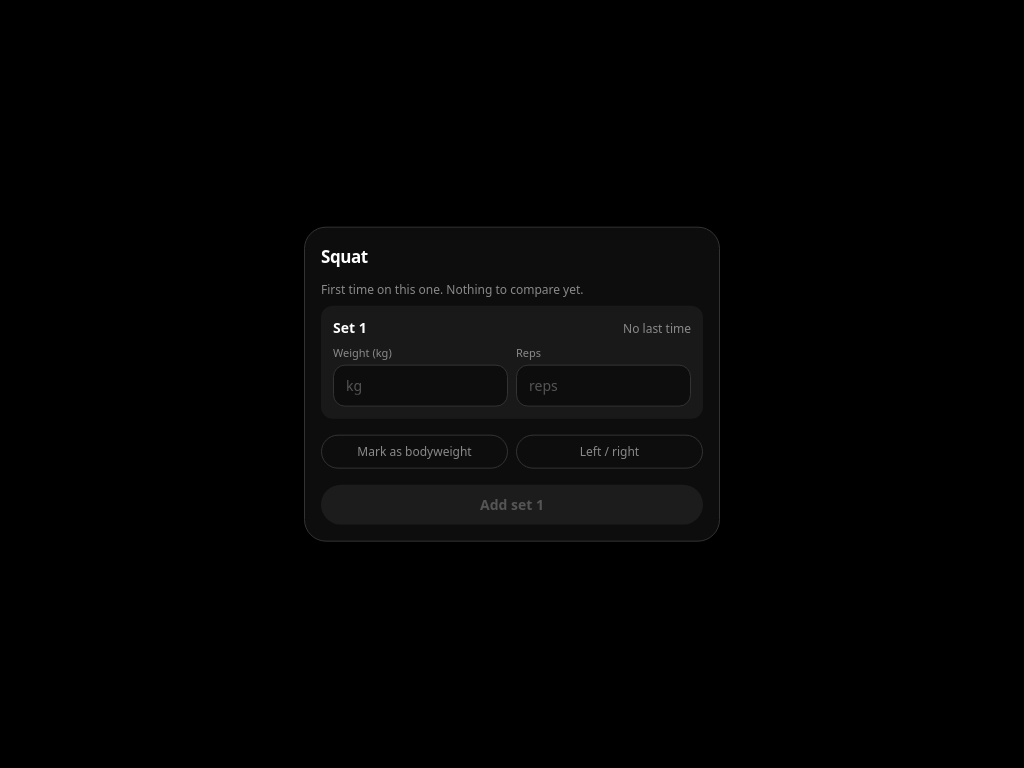
ExerciseSheet, left / right › logs both sides when Left / right is on, and needs both
The width and height of the screenshot is (1024, 768).
Click the button "Left / right". click: point(610, 451)
box: x1=516 y1=434 x2=703 y2=468
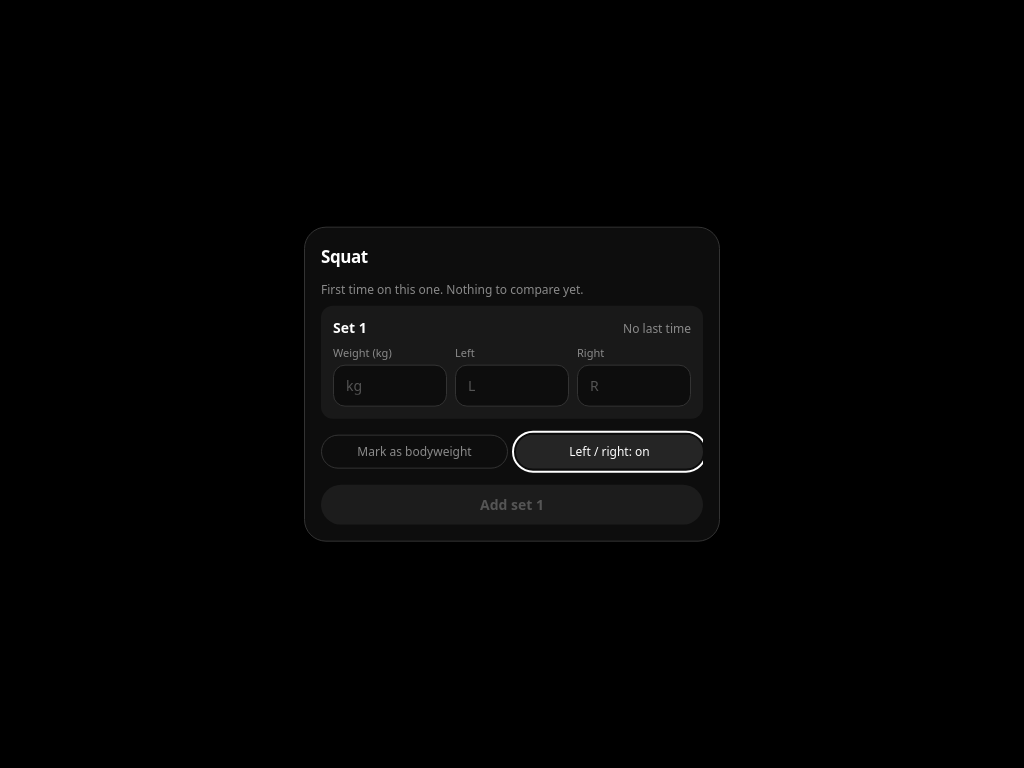
Type "20" into the number field labelled "Weight (kg)". click: point(390, 385)
box: x1=333 y1=364 x2=447 y2=406
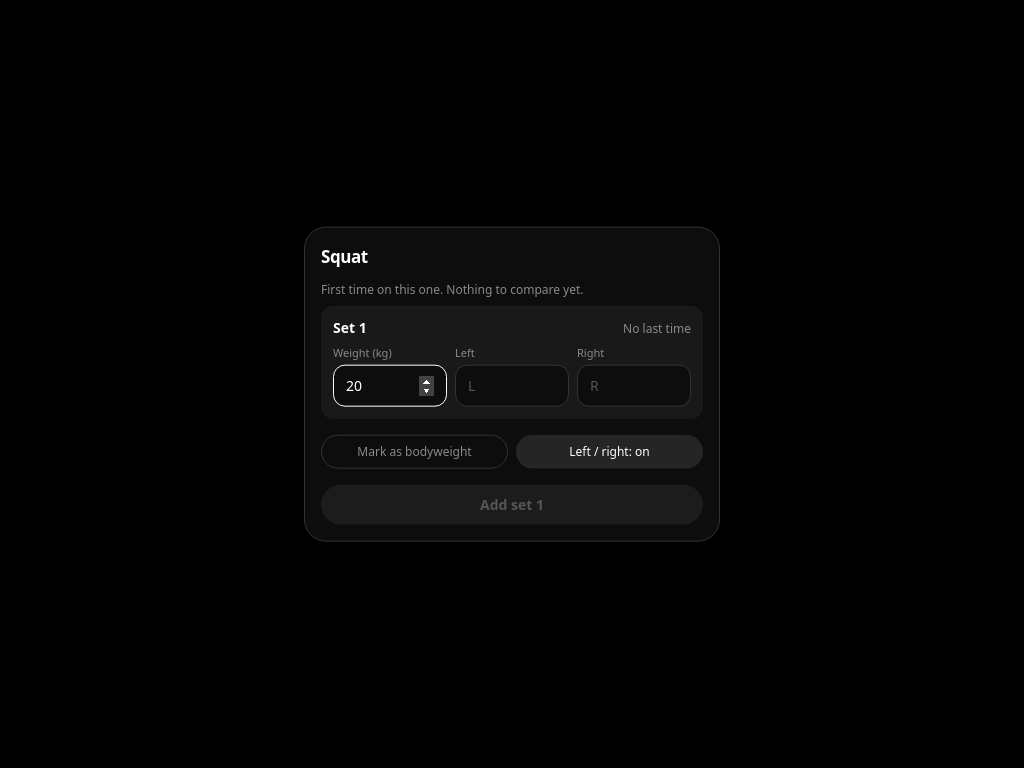
Type "7" into the number field labelled "Left". click: point(512, 385)
box: x1=455 y1=364 x2=569 y2=406
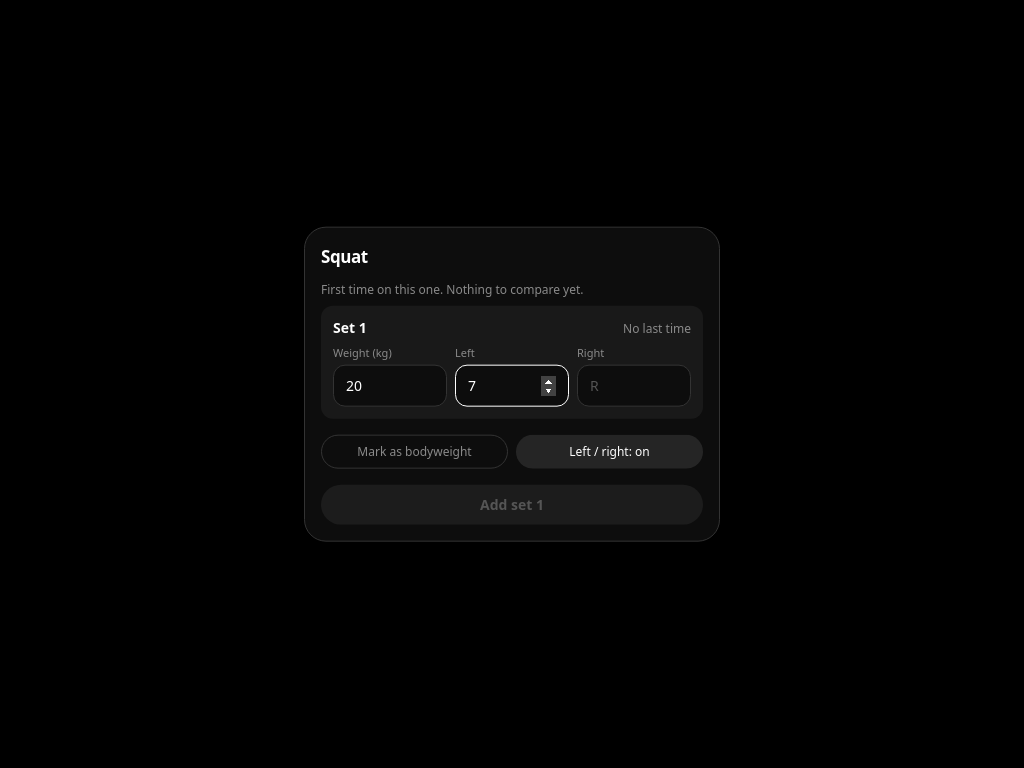
Expected: the button "Add set 1" is disabled, x1=321 y1=484 x2=703 y2=524
Type "8" into the number field labelled "Right". click: point(634, 385)
box: x1=577 y1=364 x2=691 y2=406
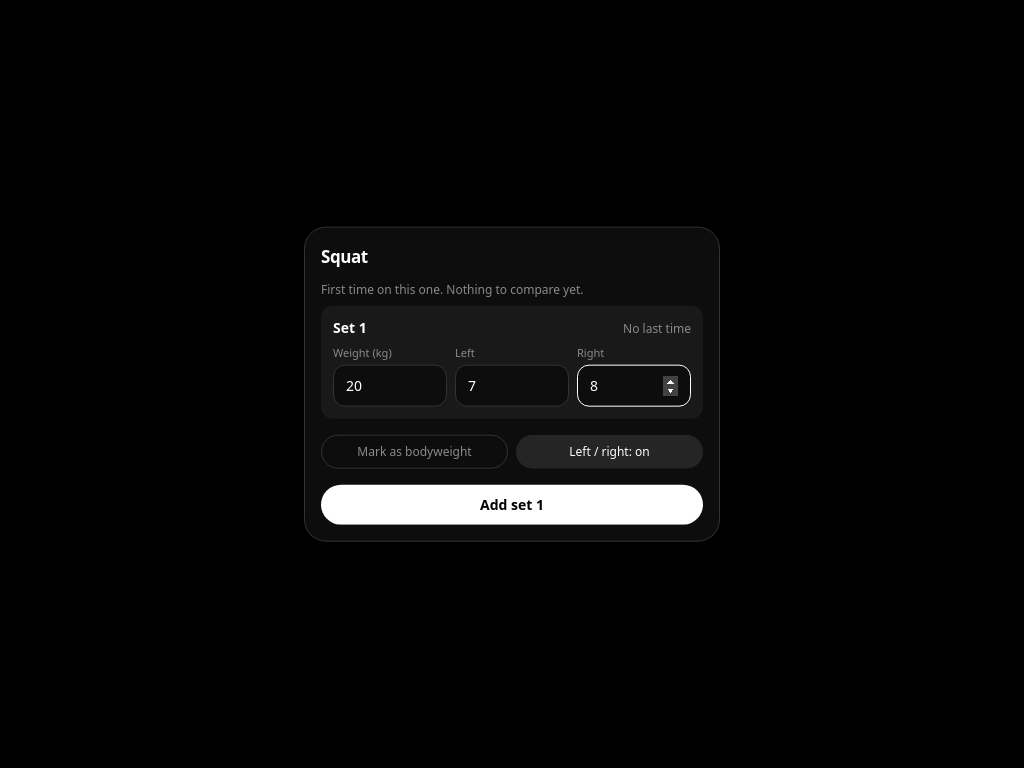
Click the button "Add set 1". click: point(512, 504)
box: x1=321 y1=484 x2=703 y2=524
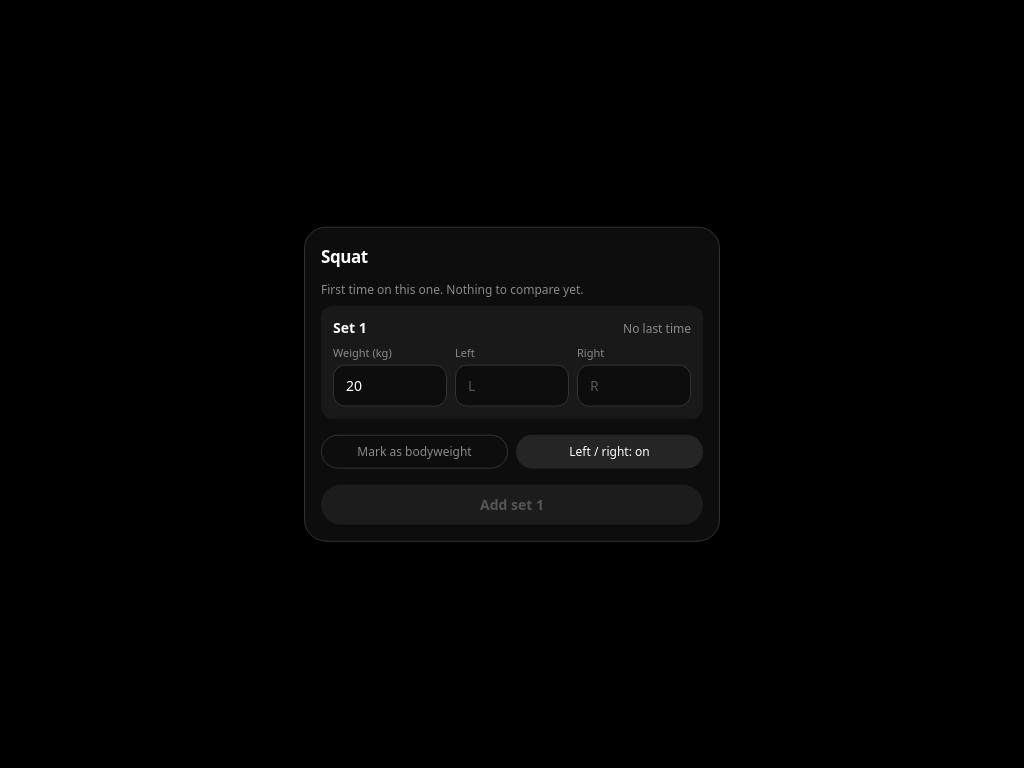
Result: the number field labelled "Left" is not empty at x1=455 y1=364 x2=569 y2=406
